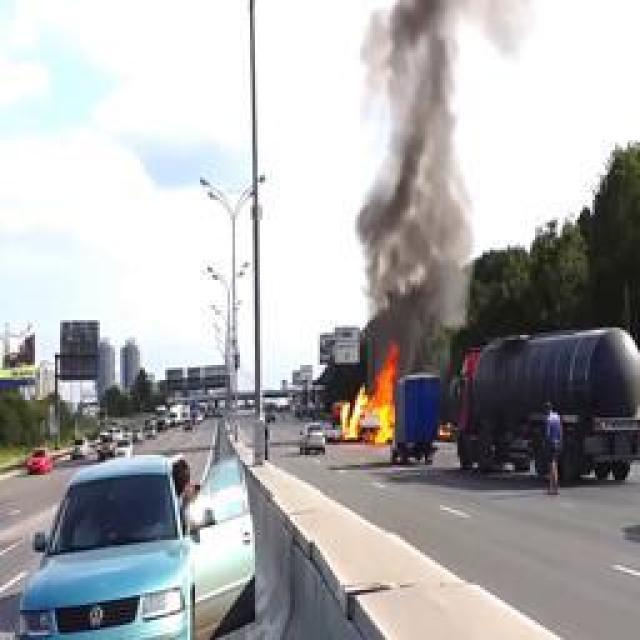Fire: (340, 344, 398, 444)
